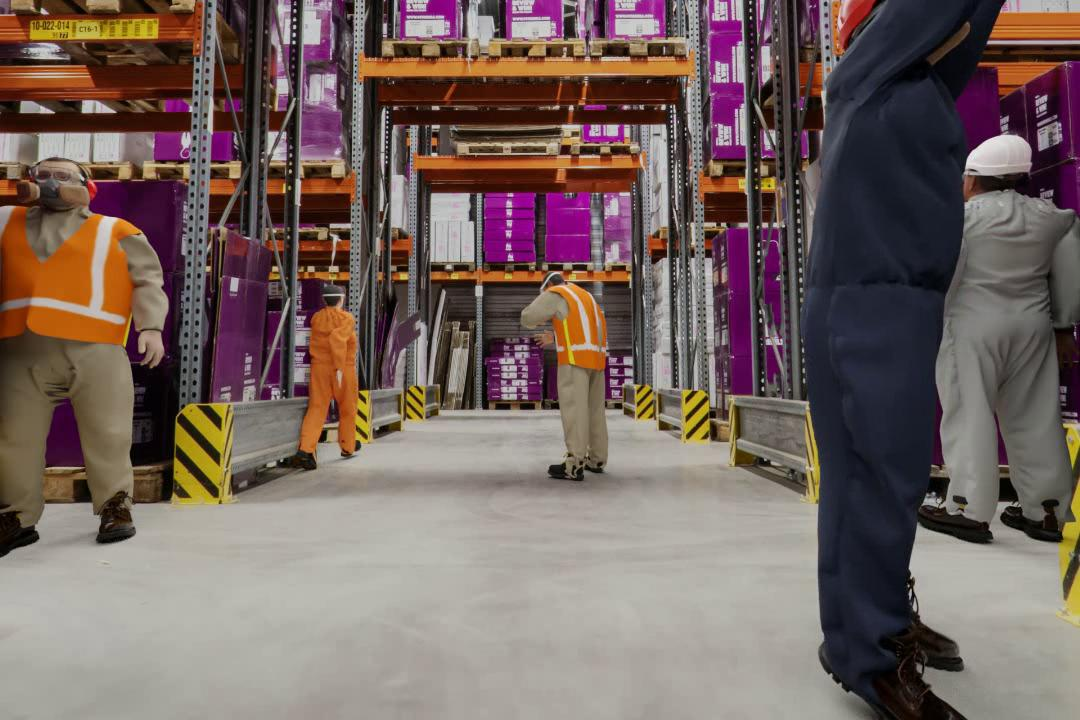Helmet: (961, 131, 1034, 175)
Jacket: (8, 199, 121, 344), (550, 283, 608, 361)
Shoes: (808, 642, 985, 720), (908, 591, 976, 667), (916, 497, 993, 543), (999, 498, 1064, 544), (91, 491, 135, 547), (0, 509, 40, 566), (548, 461, 584, 482), (296, 438, 315, 472), (340, 439, 366, 457), (585, 459, 604, 472)
